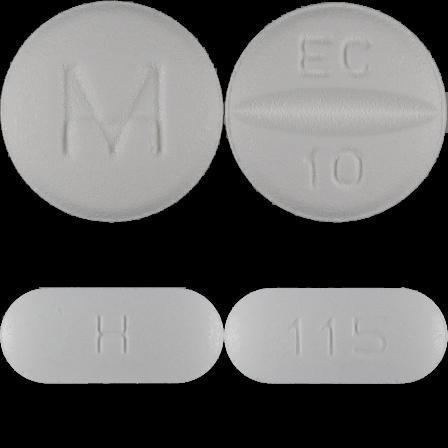61786-515: (0, 0, 224, 224)
